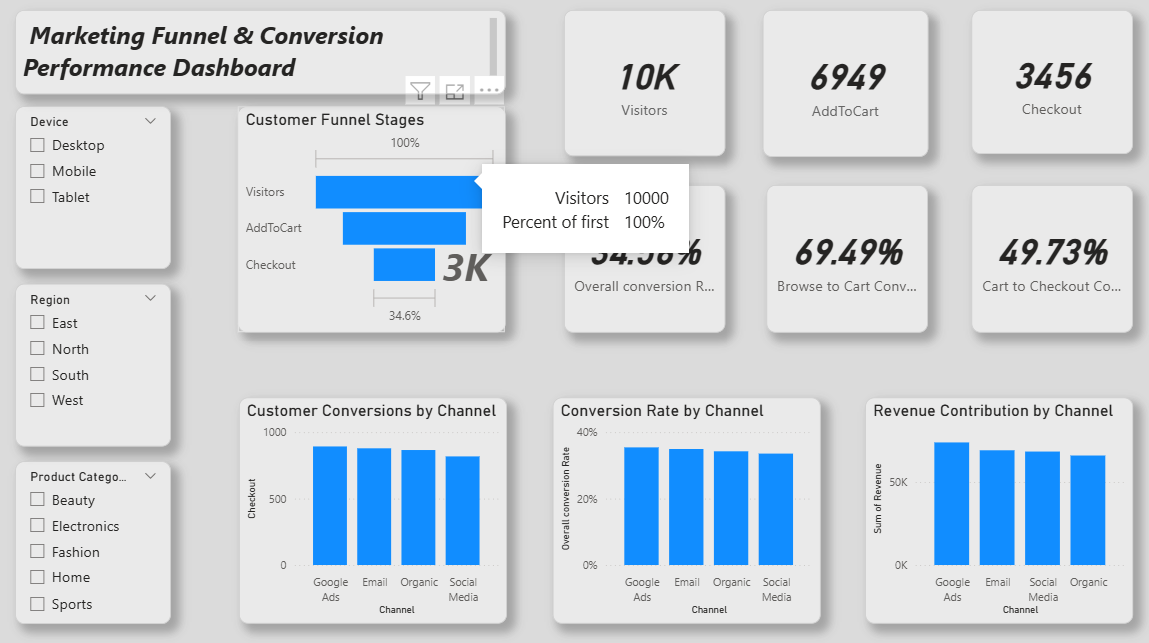

The page's visual inventory and layout, read from the dashboard file:
{"tool":"powerbi","page":{"name":"Dashboard","canvas":[1280,720],"ordinal":0},"visuals":[{"type":"card","fields":{"Values":["Funnel_Analysis_Data.Checkout"]},"box":[1080.6,11.1,179.2,159.7],"z":0},{"type":"card","fields":{"Values":["Funnel_Analysis_Data.AddToCart"]},"box":[848,11,183.9,163.3],"z":1000},{"type":"card","fields":{"Values":["Funnel_Analysis_Data.Visitors"]},"box":[627.8,11.1,179.2,162.5],"z":2000},{"type":"funnel","title":"Customer Funnel Stages","fields":{"Y":["Funnel_Analysis_Data.Visitors","Funnel_Analysis_Data.AddToCart","Funnel_Analysis_Data.Checkout"]},"box":[264.8,118,297.8,251.1],"z":3000},{"type":"card","fields":{"Values":["Funnel_Analysis_Data.Overall_Conversion %"]},"box":[627.8,205.6,179.2,163.9],"z":4000},{"type":"card","fields":{"Values":["Funnel_Analysis_Data.Cart_to_Checkout %"]},"box":[1080.6,205.6,179.2,163.9],"z":5000},{"type":"card","fields":{"Values":["Funnel_Analysis_Data.Browse_to_Cart %"]},"box":[852.8,205.6,179.2,163.9],"z":6000},{"type":"textbox","box":[17.8,11,544.8,93.3],"z":7000},{"type":"clusteredColumnChart","title":"Customer Conversions by Channel","fields":{"Category":["Funnel_Analysis_Data.Channel"],"Y":["Funnel_Analysis_Data.Checkout"]},"box":[266.2,441.9,297.8,251.1],"z":8000},{"type":"clusteredColumnChart","title":" Conversion Rate by Channel","fields":{"Category":["Funnel_Analysis_Data.Channel"],"Y":["Funnel_Analysis_Data.Overall_Conversion %"]},"box":[614.8,441.9,297.8,251.1],"z":9000},{"type":"clusteredColumnChart","title":" Revenue Contribution by Channel","fields":{"Category":["Funnel_Analysis_Data.Channel"],"Y":["Sum(Funnel_Analysis_Data.Revenue)"]},"box":[961.9,441.9,297.8,251.1],"z":10000},{"type":"slicer","fields":{"Values":["Funnel_Analysis_Data.Device"]},"box":[17.8,118,172.9,181.1],"z":11000},{"type":"slicer","fields":{"Values":["Funnel_Analysis_Data.Region"]},"box":[17.8,315.6,172.9,181.1],"z":12000},{"type":"slicer","fields":{"Values":["Funnel_Analysis_Data.Product Category"]},"box":[17.8,511.8,172.9,181.1],"z":13000}]}

Visuals, with their boxes in screenshot pixels (x1, y1, x2, y2), scaled from the page's 1280x720 canvas onto the 1149x643 screenshot:
card - Funnel_Analysis_Data.Checkout: box(970, 10, 1131, 153)
card - Funnel_Analysis_Data.AddToCart: box(761, 10, 926, 156)
card - Funnel_Analysis_Data.Visitors: box(564, 10, 724, 155)
"Customer Funnel Stages" funnel: box(238, 105, 505, 330)
card - Funnel_Analysis_Data.Overall_Conversion %: box(564, 184, 724, 330)
card - Funnel_Analysis_Data.Cart_to_Checkout %: box(970, 184, 1131, 330)
card - Funnel_Analysis_Data.Browse_to_Cart %: box(766, 184, 926, 330)
textbox: box(16, 10, 505, 93)
"Customer Conversions by Channel" clusteredColumnChart: box(239, 395, 506, 619)
" Conversion Rate by Channel" clusteredColumnChart: box(552, 395, 819, 619)
" Revenue Contribution by Channel" clusteredColumnChart: box(863, 395, 1131, 619)
slicer - Funnel_Analysis_Data.Device: box(16, 105, 171, 267)
slicer - Funnel_Analysis_Data.Region: box(16, 282, 171, 444)
slicer - Funnel_Analysis_Data.Product Category: box(16, 457, 171, 619)
